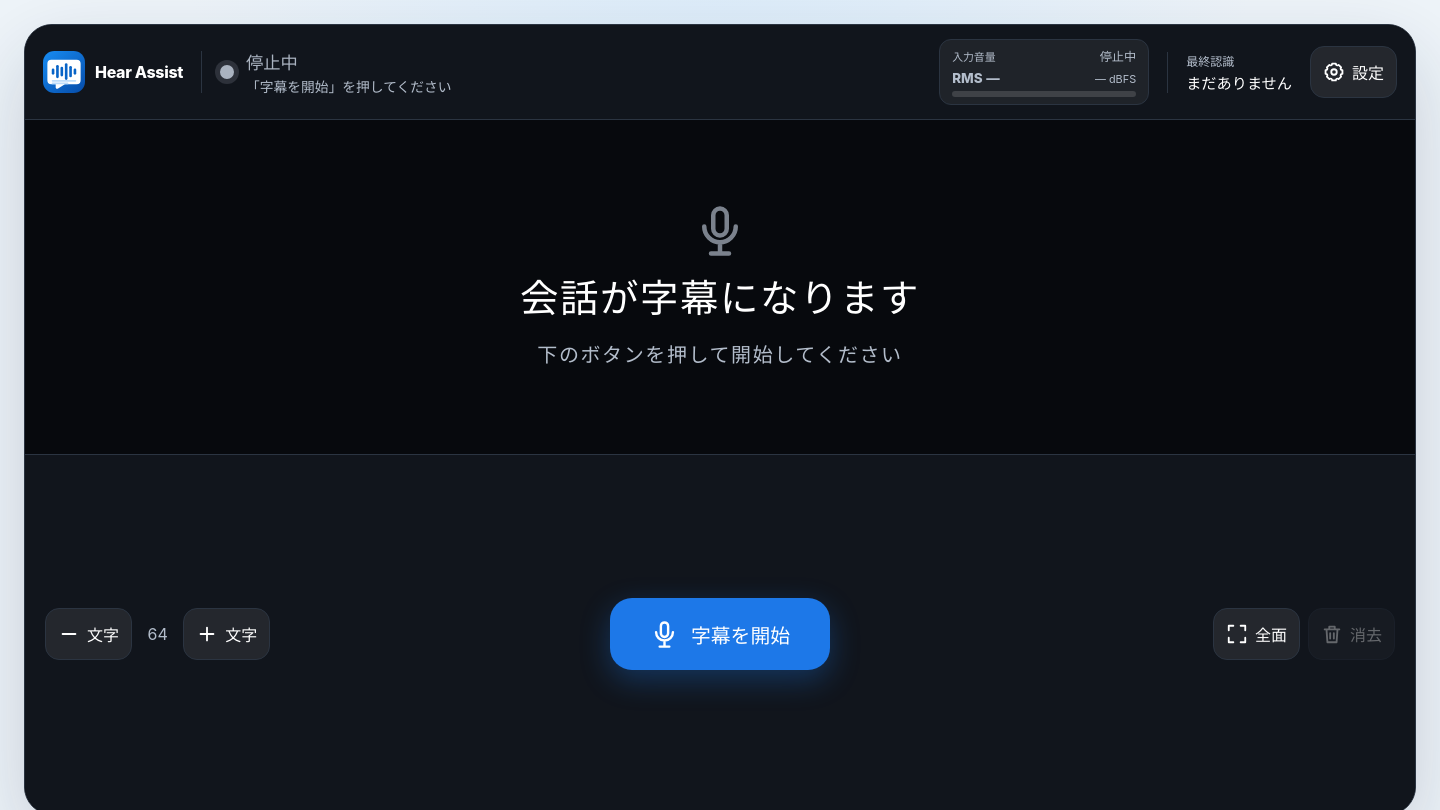
Test: starts in a simple, high-contrast ReazonSpeech experience
Check: the button "字幕を開始" is shown, box x1=610 y1=598 x2=830 y2=670
Check: the 1st text "停止中" is shown, box x1=246 y1=52 x2=298 y2=72
Click the button "設定" at (1354, 72), box x1=1310 y1=46 x2=1397 y2=98
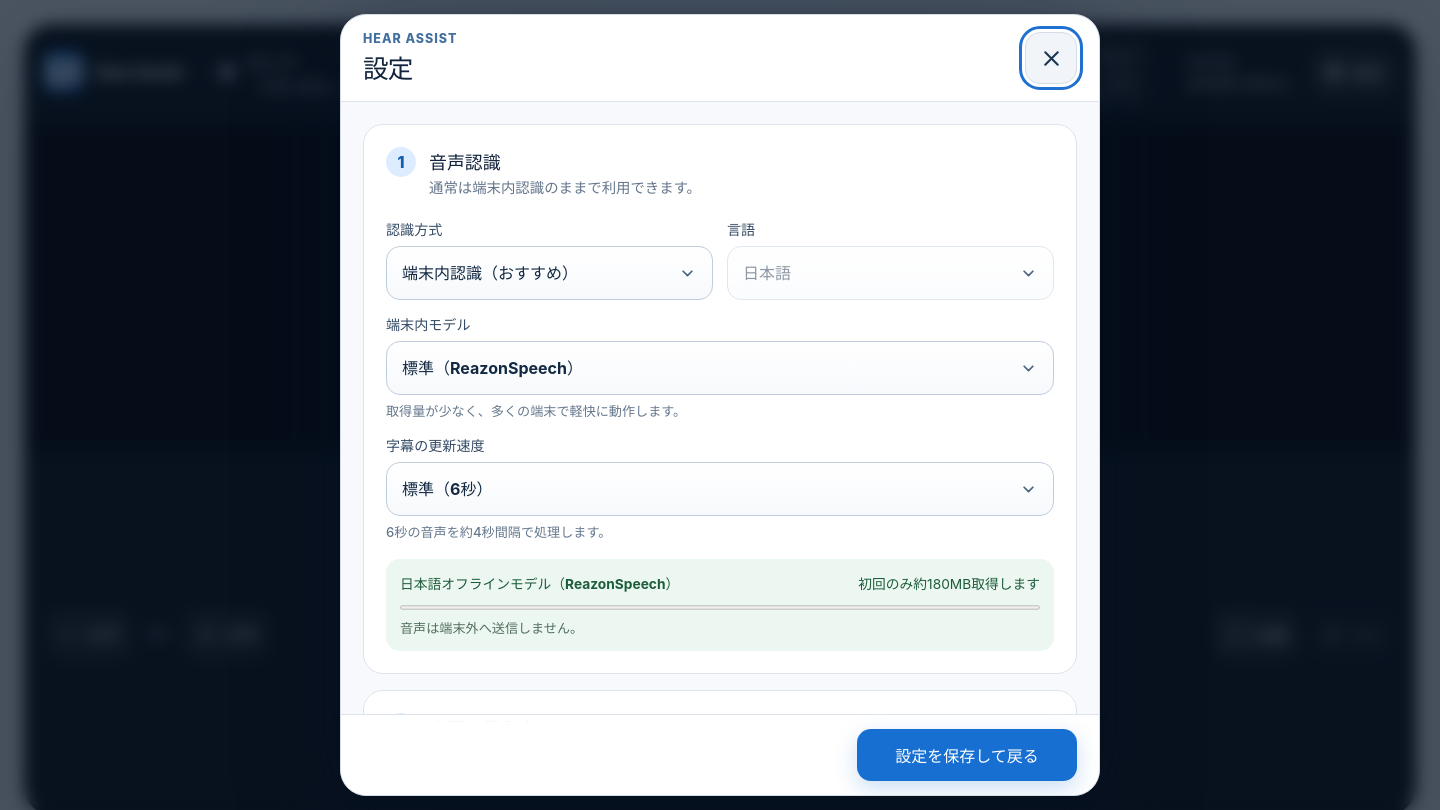
Check: the dropdown labelled "認識方式" shows "端末内認識（おすすめ）", box x1=386 y1=246 x2=713 y2=300
Check: the dropdown labelled "言語" is disabled, box x1=727 y1=246 x2=1054 y2=300
